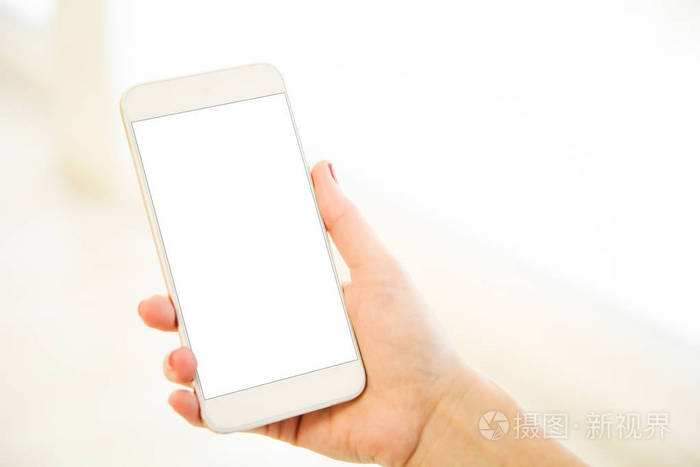phone: (105, 57, 445, 462)
